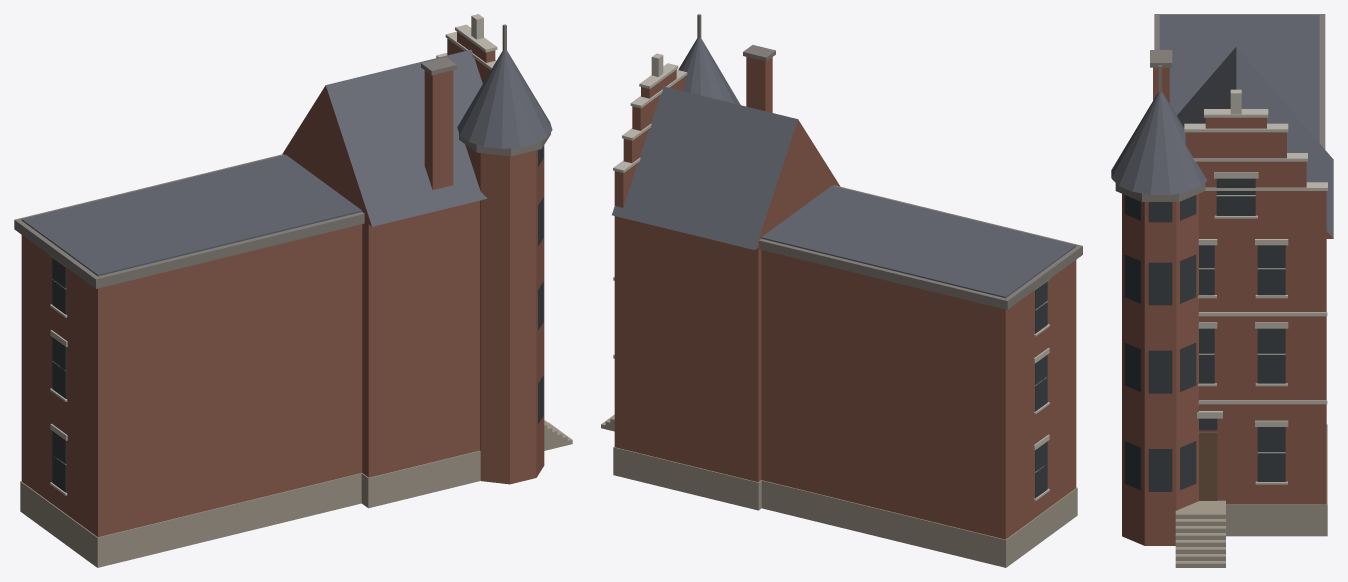
Rendered from house_217_e20th__draft_1904.glb.
3 views of the same model, side by side, from view 1: azimuth 30°, elevation 25°; view 2: azimuth 150°, elevation 25°; view 3: azimuth 270°, elevation 25° (orthographic). The views are drawn at different scales.
Parts seen in each view (by area): view 1: house_217_e20th__draft_1904; view 2: house_217_e20th__draft_1904; view 3: house_217_e20th__draft_1904.
Part boxes in pixels (box(x1,y1,x2,y2)): house_217_e20th__draft_1904: box(14, 14, 572, 567); house_217_e20th__draft_1904: box(601, 14, 1082, 567); house_217_e20th__draft_1904: box(1111, 14, 1333, 567).
Size of the model in its own units: 21.19 by 18.4 by 7.99.
